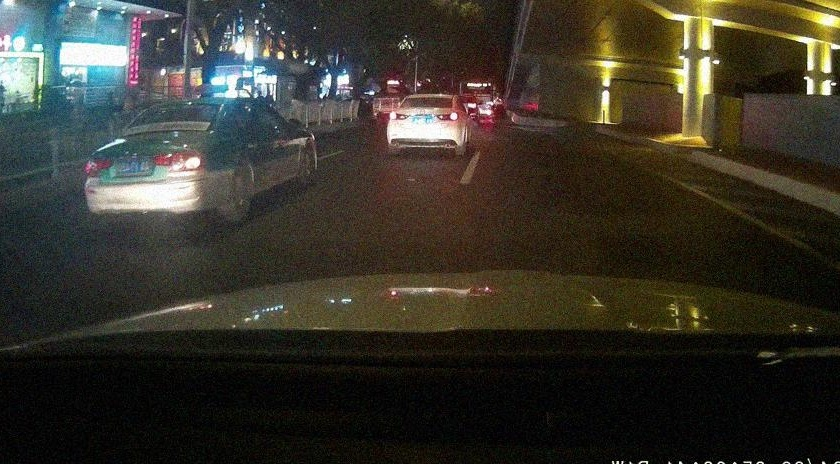L_light: (85, 156, 113, 176), (389, 111, 409, 121)
R_light: (154, 149, 205, 172), (436, 112, 458, 121)
T_light: (171, 105, 188, 108), (421, 98, 432, 100)
night-no: (387, 95, 459, 155)
night-right: (85, 100, 225, 231)
